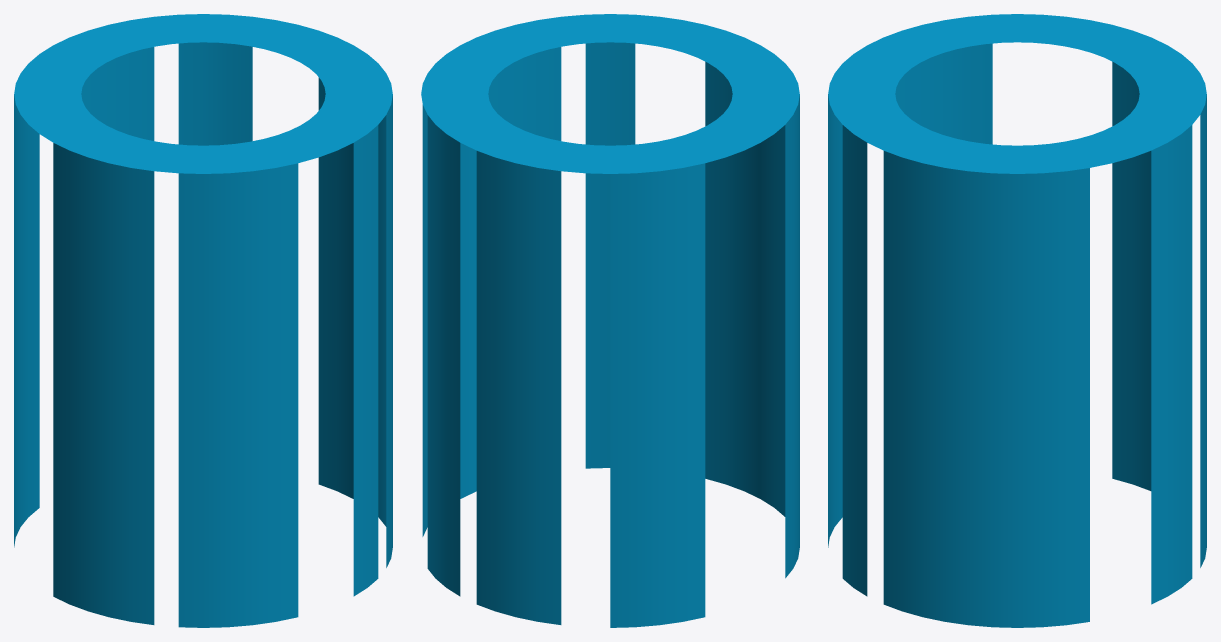
Rendered from original-35.obj.
3 renders of one model, left to right at view 1: azimuth 30°, elevation 25°; view 2: azimuth 150°, elevation 25°; view 3: azimuth 270°, elevation 25°, orthographic.
Parts seen in each view (by area): view 1: #ID360; view 2: #ID360; view 3: #ID360.
Boxes of the visible parts, x1,y1,x2,y2 form: #ID360: (14, 14, 392, 627); #ID360: (421, 14, 799, 627); #ID360: (828, 14, 1206, 627).
Bounding box in the file's own units: 0.0423 × 0.056 × 0.0423.
